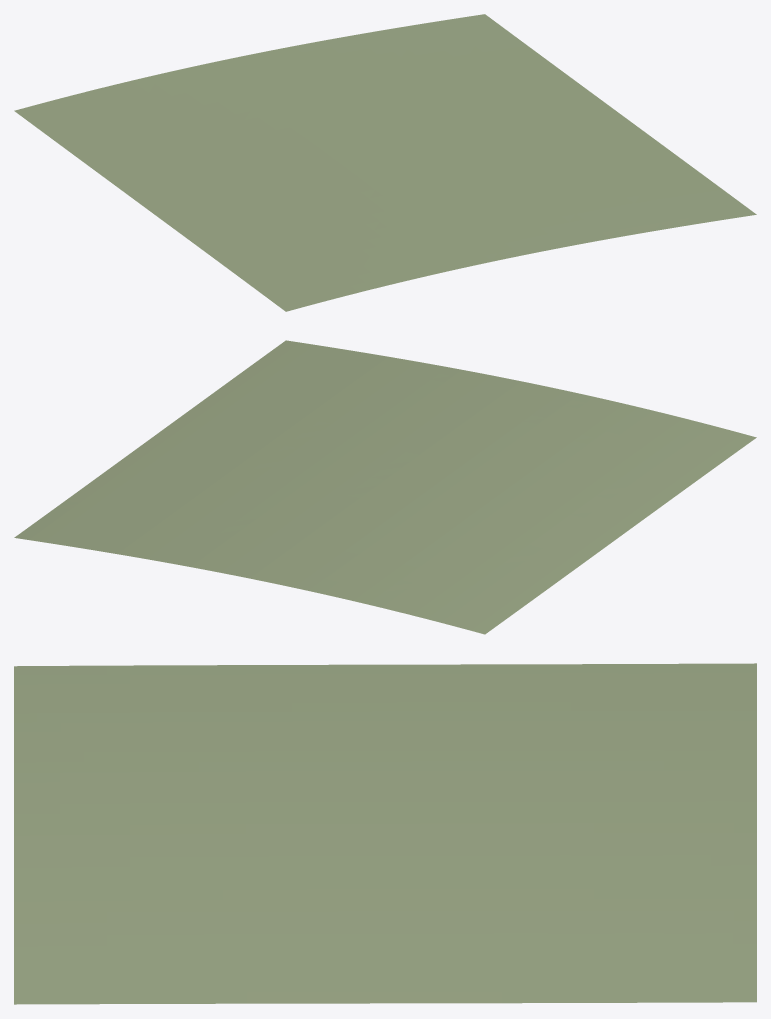
Rendered from valley-2-5.glb.
3 renders of one model, top to bottom at view 1: azimuth 30°, elevation 25°; view 2: azimuth 150°, elevation 25°; view 3: azimuth 270°, elevation 25°, orthographic. The views are drawn at different scales.
Visible parts, largest first — view 1: valley-2-5; view 2: valley-2-5; view 3: valley-2-5.
Boxes of the visible parts, box(x1,y1,x2,y2) form: valley-2-5: box(14, 14, 756, 311); valley-2-5: box(14, 340, 756, 634); valley-2-5: box(14, 663, 756, 1004).
Bounding box in the file's own units: 256 × 11.06 × 256.
